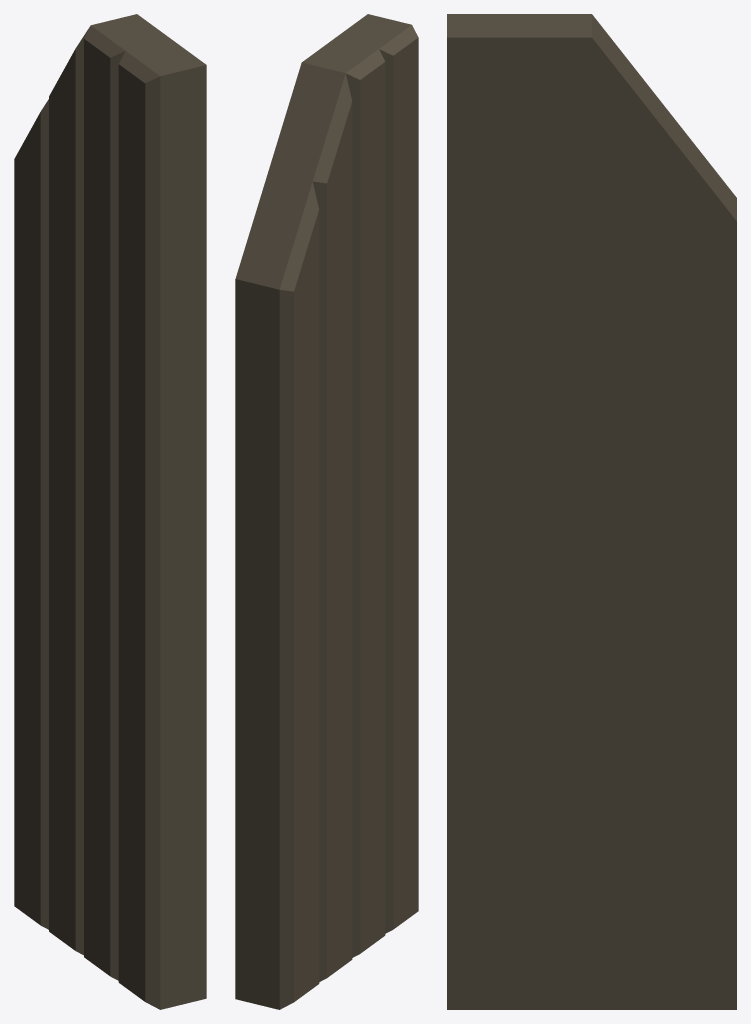
File: porta02.fbx
3 renders of one model, left to right at view 1: azimuth 30°, elevation 25°; view 2: azimuth 150°, elevation 25°; view 3: azimuth 270°, elevation 25°, orthographic. The views are drawn at different scales.
Parts seen in each view (by area): view 1: porta02; view 2: porta02; view 3: porta02.
Part boxes in pixels (bbox=[...]): porta02: bbox=[14, 14, 206, 1009]; porta02: bbox=[235, 14, 418, 1009]; porta02: bbox=[447, 14, 736, 1009].
Bounding box in the file's own units: 0.3964 × 6.17 × 1.67.
